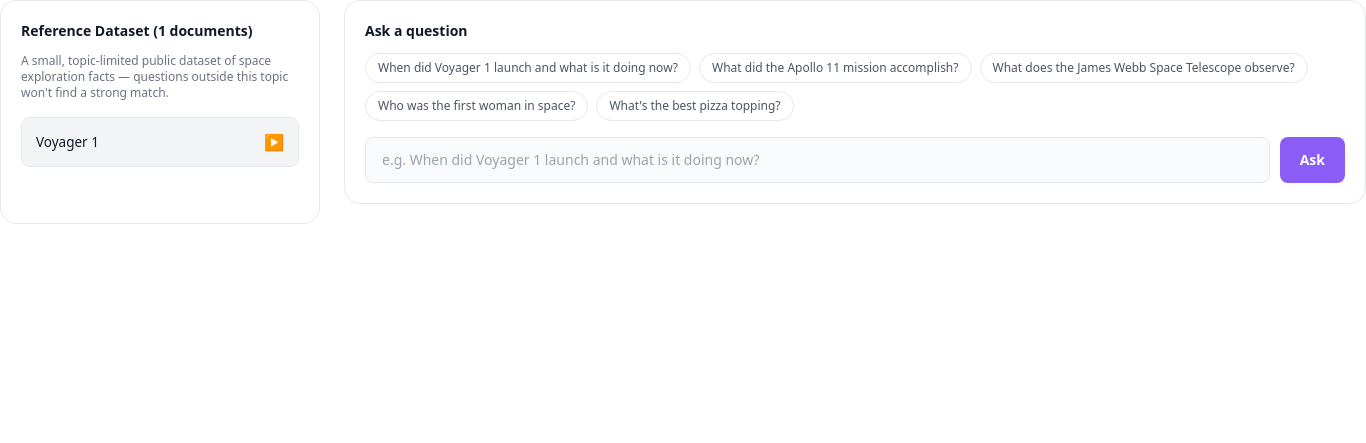
Test case: RagApp › renders the graceful no-strong-match message instead of a fabricated answer
Type "What's the best pizza topping?" into the field with placeholder "e.g. When did Voyager 1 launch and what is it doing now?" at x=817, y=160, box 365,137 -> 1270,183
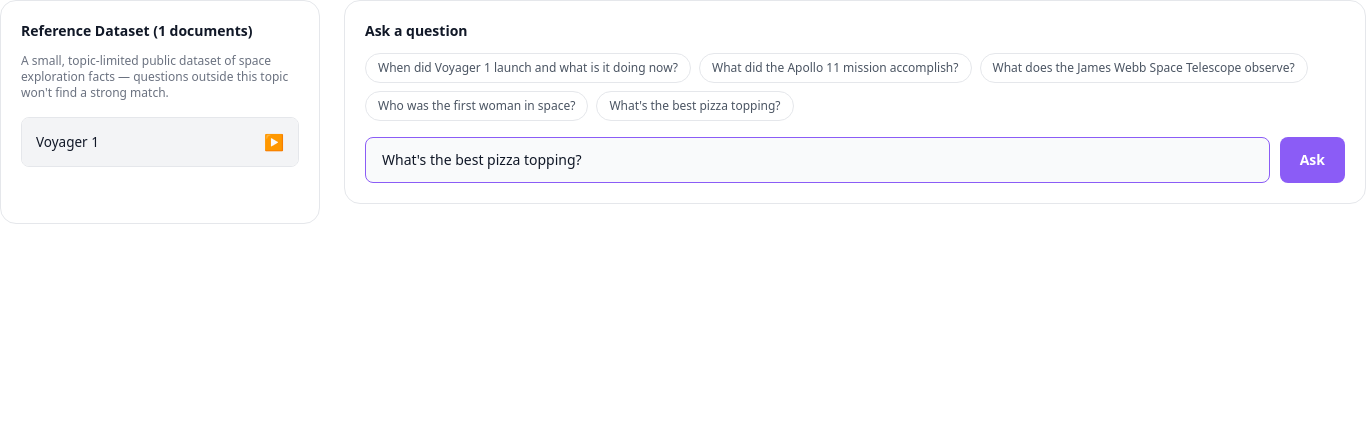
Click the button "Ask" at x=1312, y=160, box 1280,137 -> 1345,183
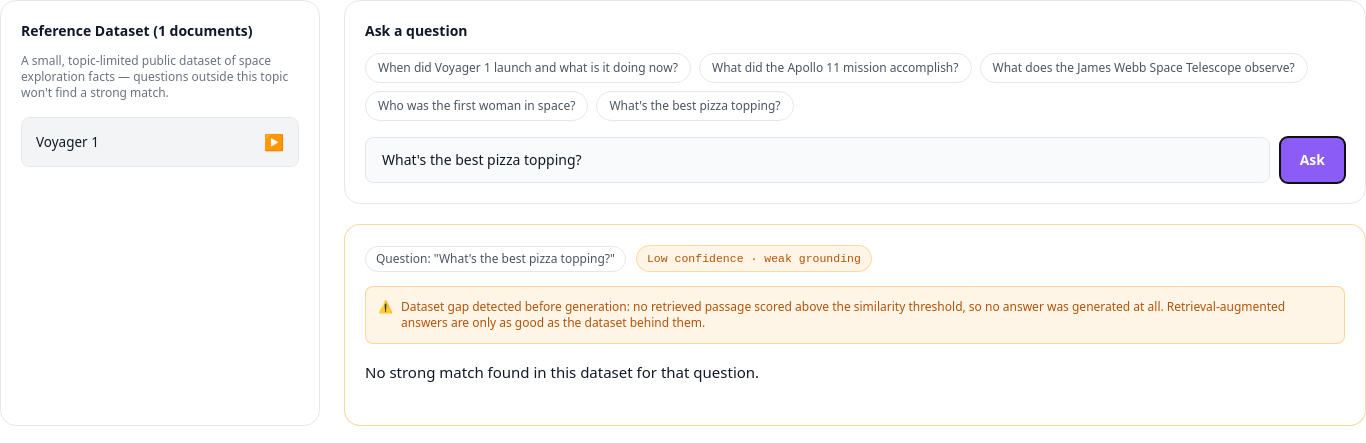
Expected: the text "No strong match found in this dataset for that question." is shown, 365,362 -> 759,382
Expected: the text "Low confidence · weak grounding" is shown, 636,245 -> 872,272
